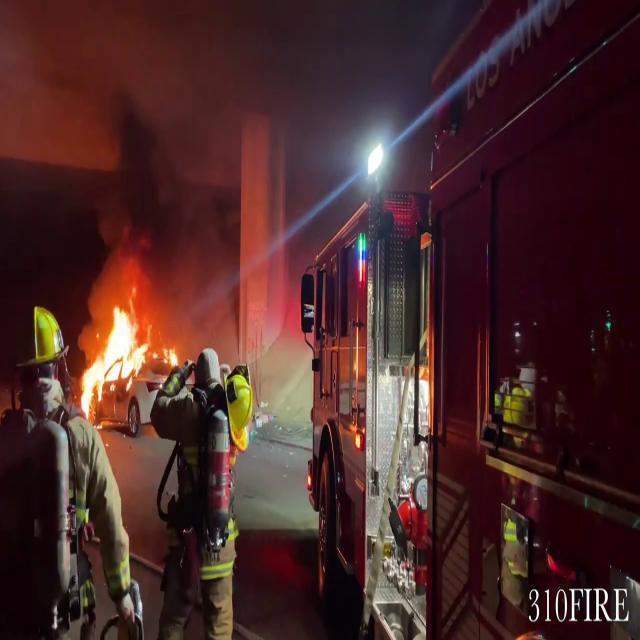Fire: (78, 293, 151, 417)
Smoke: (90, 71, 184, 298)
